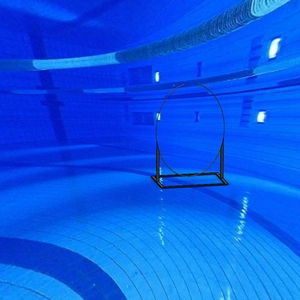circle: (149, 82, 229, 190)
